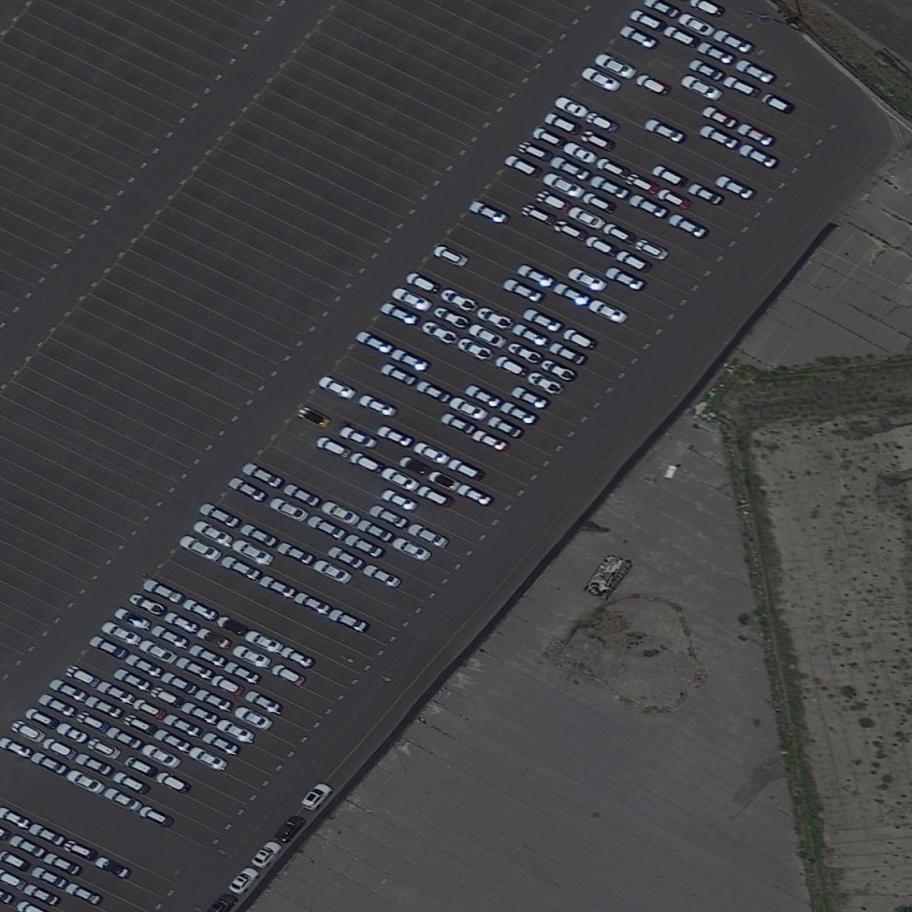small-vehicle: (540, 170, 590, 203), (641, 114, 689, 148), (593, 49, 640, 83), (229, 536, 276, 570), (190, 516, 237, 550), (178, 532, 226, 565), (405, 520, 454, 552), (678, 71, 725, 104), (196, 500, 244, 532), (310, 554, 356, 587), (711, 172, 758, 204), (186, 743, 231, 776), (588, 172, 634, 204), (390, 533, 436, 565), (136, 635, 180, 668), (387, 285, 435, 315), (437, 285, 482, 317), (733, 56, 778, 88), (139, 741, 184, 773), (266, 493, 312, 524), (305, 512, 351, 543), (418, 316, 462, 348), (712, 27, 756, 59), (6, 830, 50, 862), (101, 784, 145, 816), (63, 766, 107, 798), (465, 320, 510, 351), (697, 122, 742, 153), (626, 192, 671, 223), (548, 153, 593, 184), (378, 464, 423, 495), (237, 520, 282, 551), (257, 572, 302, 603), (241, 460, 286, 491), (328, 606, 373, 637), (141, 576, 186, 607), (35, 691, 81, 721), (343, 532, 389, 562), (366, 501, 412, 531), (524, 367, 568, 398), (357, 391, 401, 422), (447, 394, 491, 425), (580, 65, 624, 96), (737, 141, 781, 172), (151, 725, 195, 756), (199, 728, 243, 759), (213, 716, 257, 747), (220, 553, 264, 584), (603, 264, 648, 294), (41, 849, 86, 879), (99, 618, 144, 648), (455, 335, 498, 366), (410, 438, 453, 469), (666, 211, 709, 242), (104, 723, 147, 754), (88, 632, 131, 663), (521, 306, 565, 336), (515, 262, 559, 292), (566, 264, 610, 294), (95, 678, 139, 708), (227, 475, 271, 505), (319, 499, 363, 529), (149, 622, 193, 652), (467, 199, 512, 228), (61, 661, 103, 692), (250, 837, 285, 874), (301, 779, 335, 817), (475, 304, 518, 334), (566, 203, 609, 233), (28, 749, 71, 779), (378, 486, 421, 516), (325, 543, 368, 573), (232, 703, 275, 733), (154, 767, 194, 799), (502, 276, 546, 305), (587, 297, 631, 326), (388, 345, 432, 374), (46, 676, 90, 705), (280, 481, 324, 510), (547, 339, 589, 369), (312, 433, 354, 463), (337, 424, 382, 452), (462, 382, 504, 412), (518, 200, 560, 230), (502, 152, 544, 182), (179, 698, 221, 728), (92, 853, 134, 883), (111, 768, 153, 798), (158, 668, 200, 698), (243, 688, 285, 718), (174, 654, 216, 684), (274, 811, 308, 848), (508, 384, 551, 413), (316, 373, 359, 402), (541, 110, 584, 139), (532, 186, 575, 215), (111, 665, 154, 694), (122, 651, 165, 680), (28, 863, 71, 892), (26, 821, 69, 850), (73, 750, 116, 779), (361, 561, 404, 590), (676, 11, 719, 40), (231, 643, 275, 671), (126, 591, 170, 619), (403, 268, 444, 298), (447, 456, 488, 486), (8, 716, 49, 746), (510, 321, 552, 350), (551, 280, 593, 309), (699, 103, 741, 132), (275, 539, 317, 568), (292, 589, 334, 618), (431, 304, 474, 332), (353, 329, 396, 357), (21, 703, 61, 733), (455, 481, 496, 510), (379, 360, 420, 389), (736, 121, 777, 150), (633, 70, 674, 99), (619, 23, 660, 52), (550, 216, 591, 245), (162, 711, 203, 740), (84, 734, 125, 763), (187, 641, 228, 670), (194, 625, 235, 654), (54, 718, 92, 749), (469, 426, 511, 454), (437, 409, 479, 437), (135, 802, 177, 830), (193, 686, 235, 714), (425, 466, 464, 496), (552, 92, 591, 122), (561, 138, 600, 168), (493, 352, 533, 381), (414, 377, 454, 406), (500, 400, 540, 429), (650, 163, 690, 192), (74, 708, 114, 737), (39, 734, 79, 763), (538, 356, 579, 384), (505, 339, 546, 367), (614, 248, 655, 276), (578, 127, 619, 155), (63, 881, 104, 909), (180, 596, 221, 624), (722, 74, 764, 101), (245, 628, 287, 655), (295, 403, 334, 432), (583, 109, 622, 138), (600, 219, 639, 248), (269, 660, 308, 689), (431, 242, 471, 270), (486, 413, 526, 441), (632, 236, 672, 264), (59, 837, 99, 865), (356, 517, 396, 545), (113, 605, 153, 633), (222, 660, 262, 688), (83, 694, 126, 720), (22, 882, 63, 909), (374, 423, 415, 450), (685, 56, 726, 83), (695, 40, 736, 67), (624, 171, 663, 199), (686, 182, 725, 210), (208, 672, 247, 700), (228, 864, 260, 898), (347, 449, 387, 476), (162, 609, 202, 636), (380, 300, 421, 326), (627, 7, 668, 33), (655, 186, 693, 214), (580, 189, 619, 216), (416, 484, 455, 511), (121, 712, 160, 739), (130, 696, 169, 723), (279, 645, 318, 672), (515, 139, 555, 165), (594, 156, 634, 182), (562, 326, 599, 354), (213, 612, 250, 640), (395, 453, 433, 480), (582, 233, 620, 260), (148, 684, 186, 711), (532, 125, 569, 152), (122, 754, 160, 780), (663, 24, 701, 49), (0, 806, 34, 833), (761, 92, 797, 117), (0, 848, 32, 874), (0, 868, 29, 894)
